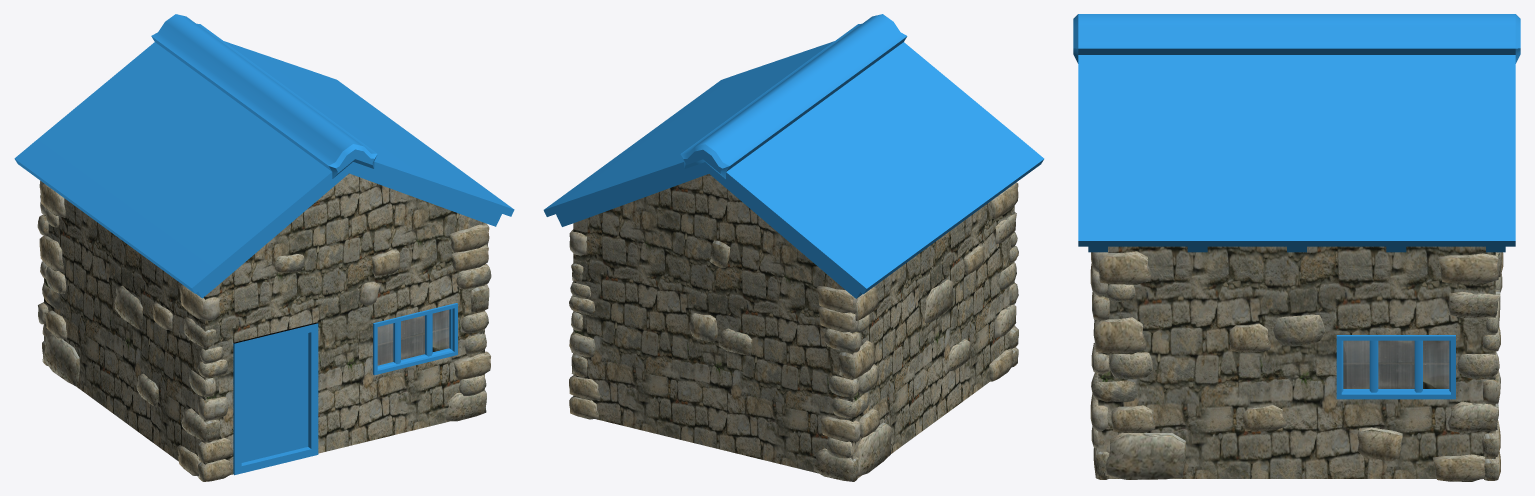
Rendered from stoneshed_sketchfab.FBX.
3 renders of one model, left to right at view 1: azimuth 30°, elevation 25°; view 2: azimuth 150°, elevation 25°; view 3: azimuth 270°, elevation 25°, orthographic. The views are drawn at different scales.
Visible parts, largest first — view 1: wall_doored_kit002; view 2: wall_doored_kit002; view 3: wall_doored_kit002.
Part boxes in pixels (x1,y1,x2,y2): wall_doored_kit002: [14, 14, 514, 481]; wall_doored_kit002: [543, 14, 1044, 481]; wall_doored_kit002: [1073, 14, 1520, 481].
Size of the model in its own units: 462 by 425 by 450.
